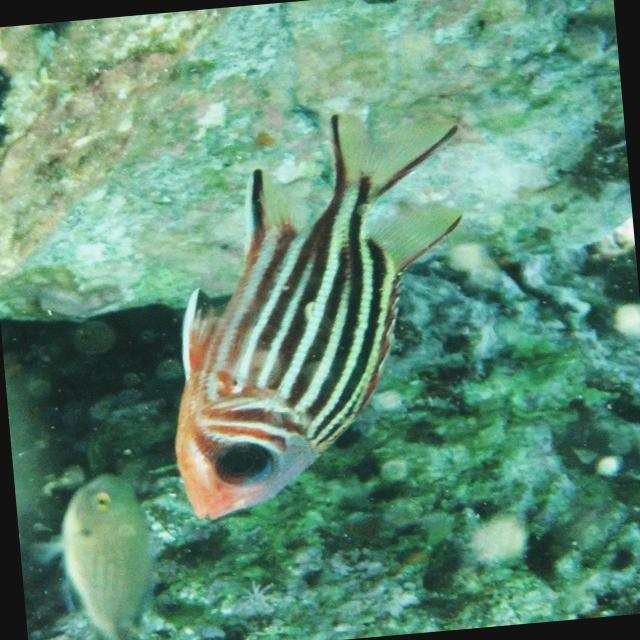Asker Baligi: (134, 89, 505, 533)
